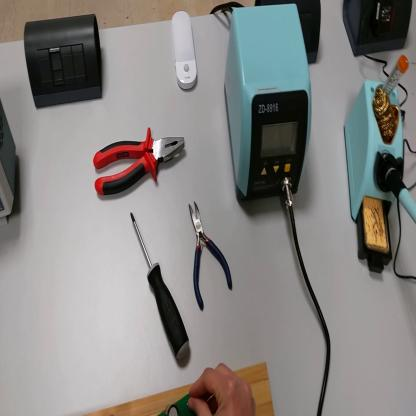hand: (189, 363, 256, 413)
high voltage board: (156, 395, 195, 414)
oscilloscope: (1, 98, 19, 228)
pliers: (89, 121, 187, 201), (186, 199, 234, 312)
socket: (344, 2, 413, 56), (298, 3, 322, 65)
welder base: (345, 54, 408, 277)
welder probe tip: (383, 157, 416, 224)
welder station: (222, 12, 312, 200)
working area: (85, 361, 274, 416)
